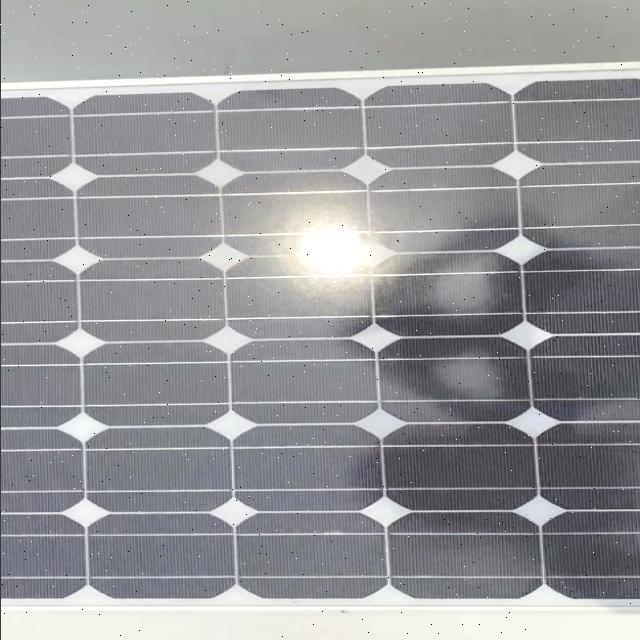Normal Solar Panel: (0, 72, 640, 604)
